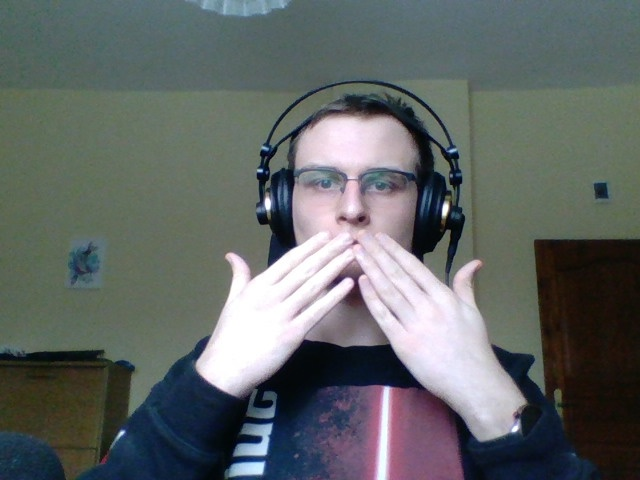thanks: (193, 226, 546, 441)
